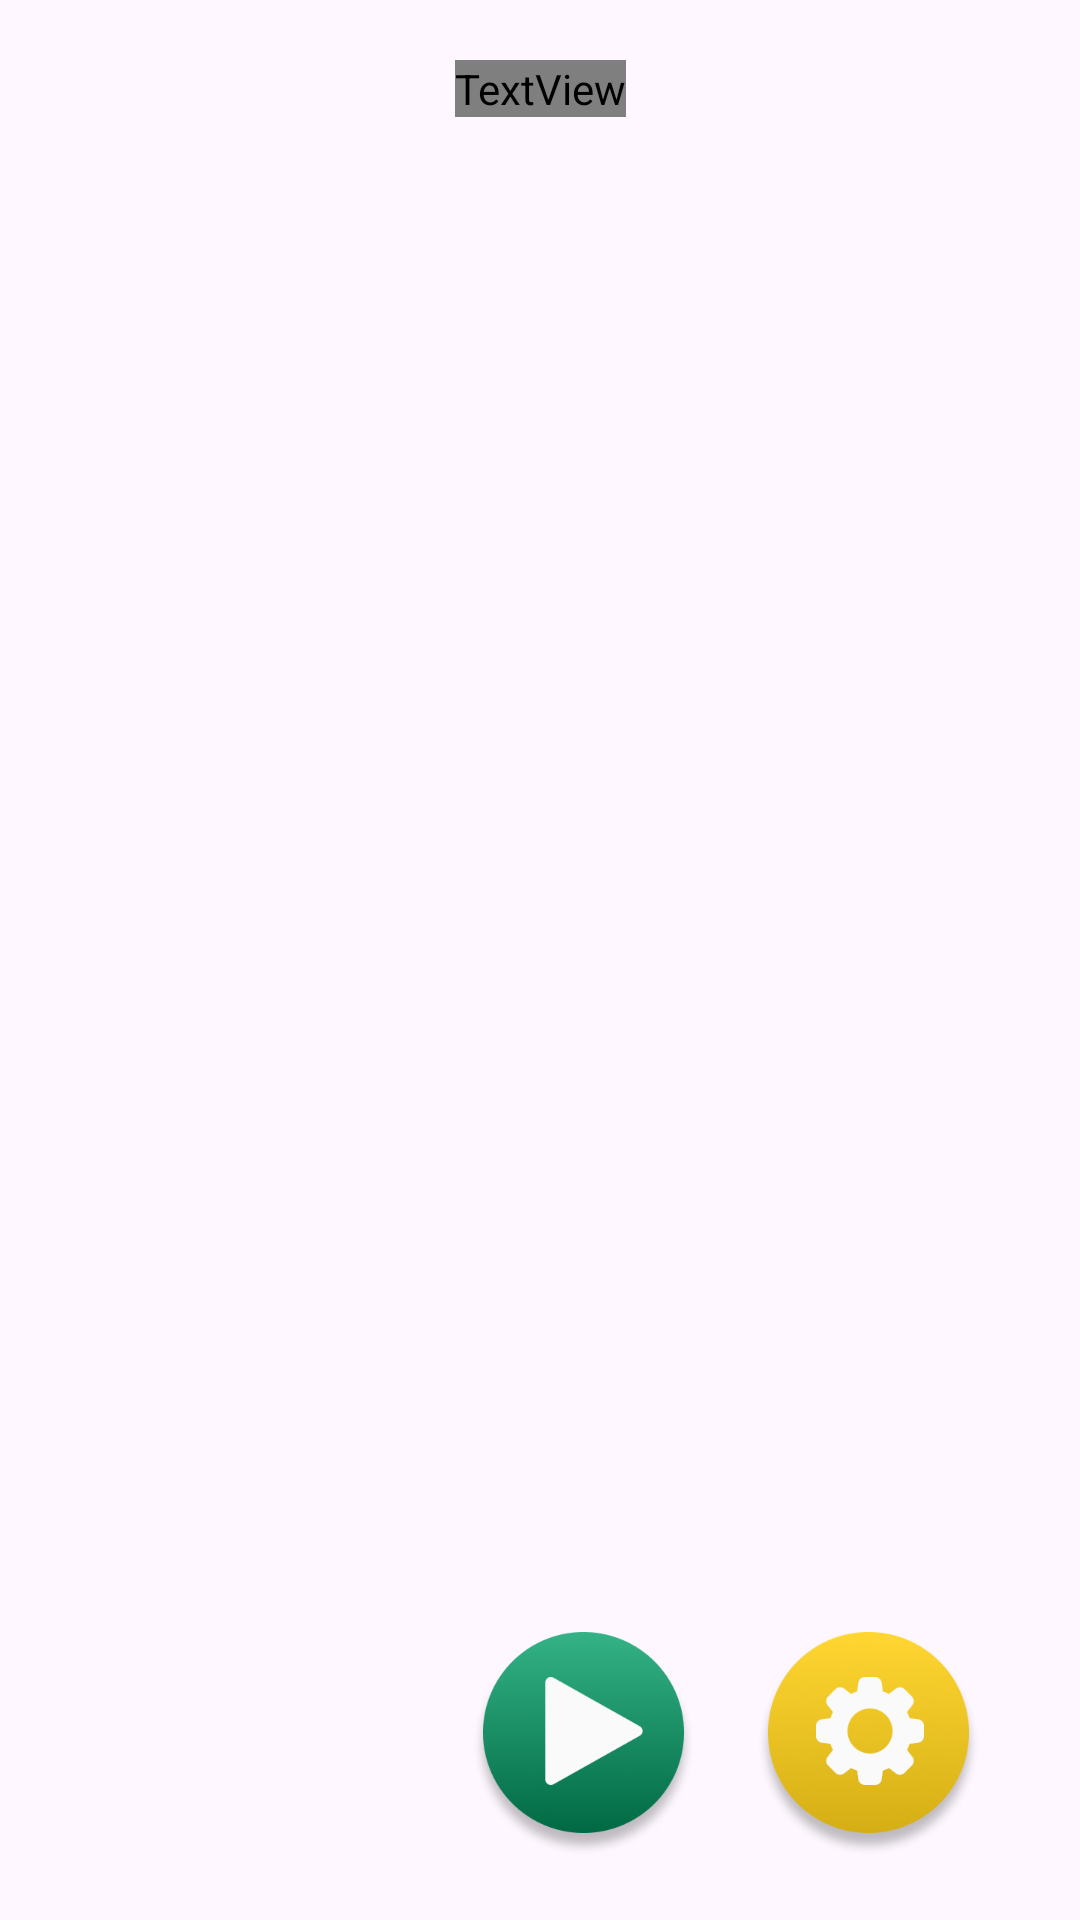

Named icons in this screenshot (1080×1920) and their bounding boxes, (x1, y1, x2, y2):
play: (481, 1632, 685, 1846)
settings: (767, 1632, 971, 1846)
